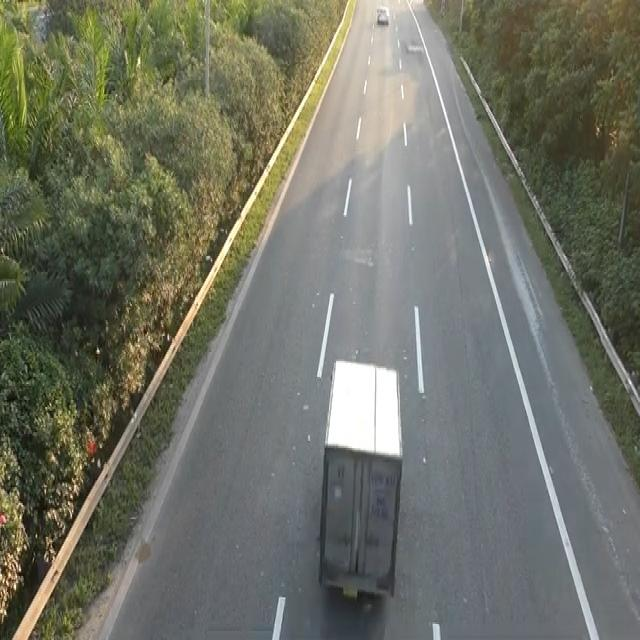minivan: (315, 352, 406, 603)
